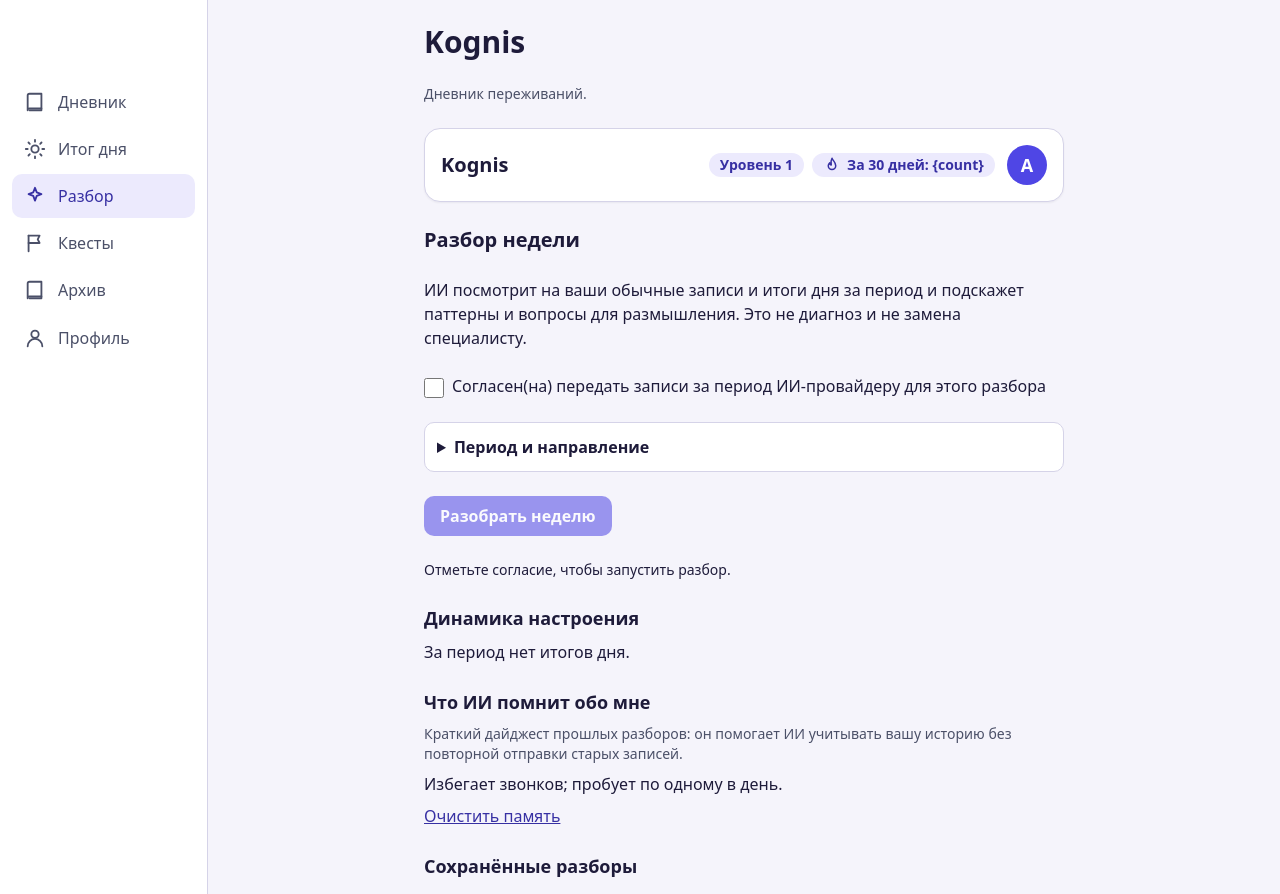
it: «Что ИИ помнит обо мне» показывает дайджест и очищается кнопкой
expect the text with test id "ai-memory-digest" shows "Избегает звонков": met, box top-left (424, 773), bottom-right (782, 795)
Click the button "Очистить память": (492, 816) top-left (424, 804), bottom-right (560, 828)
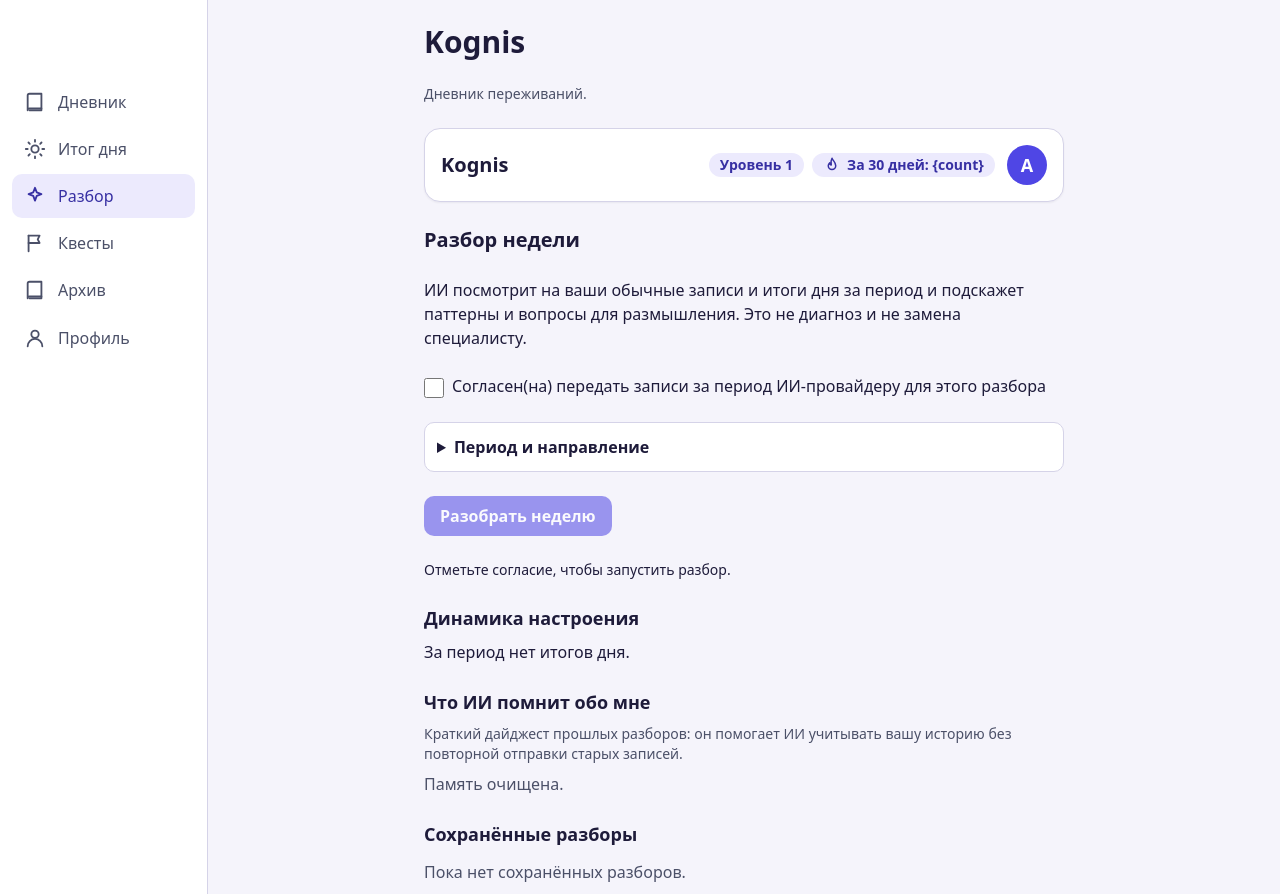
expect the text with test id "ai-memory-digest" is gone: met
expect the element with test id "ai-memory" shows "Память очищена": met, box top-left (424, 773), bottom-right (563, 795)
